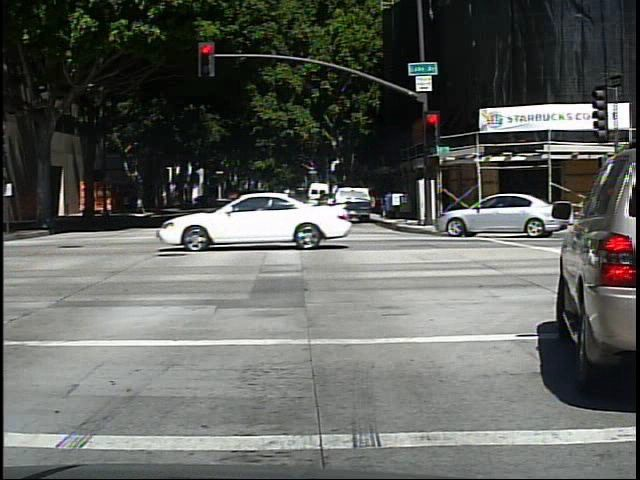person: (84, 186, 101, 220)
